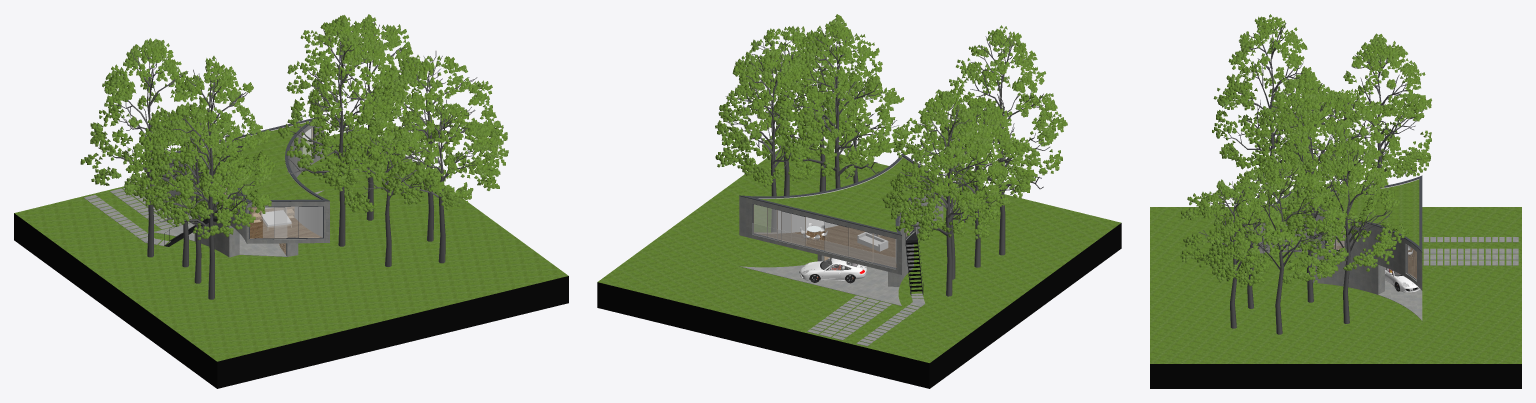
The model's file is demo_house.glb.
3 renders of one model, left to right at view 1: azimuth 30°, elevation 25°; view 2: azimuth 150°, elevation 25°; view 3: azimuth 270°, elevation 25°, orthographic. The views are drawn at different scales.
Parts seen in each view (by area): view 1: Slab, Object, Wall, Window; view 2: Slab, Object, Wall, Window, Stair; view 3: Slab, Object, Wall, Window.
Part boxes in pixels (box(x1,y1,x2,y2)): Slab: box(14, 122, 568, 388); Object: box(80, 14, 508, 299); Wall: box(152, 116, 329, 257); Window: box(217, 127, 323, 239); Slab: box(597, 142, 1121, 388); Object: box(715, 14, 1067, 296); Wall: box(739, 153, 943, 286); Window: box(752, 204, 914, 269); Stair: box(905, 241, 922, 294); Slab: box(1150, 179, 1521, 388); Object: box(1180, 14, 1431, 334); Wall: box(1259, 175, 1422, 294); Window: box(1325, 222, 1416, 280).
Size of the model in its own units: 27 by 19.55 by 27.
Materials: 40 (6 with a texture image).
